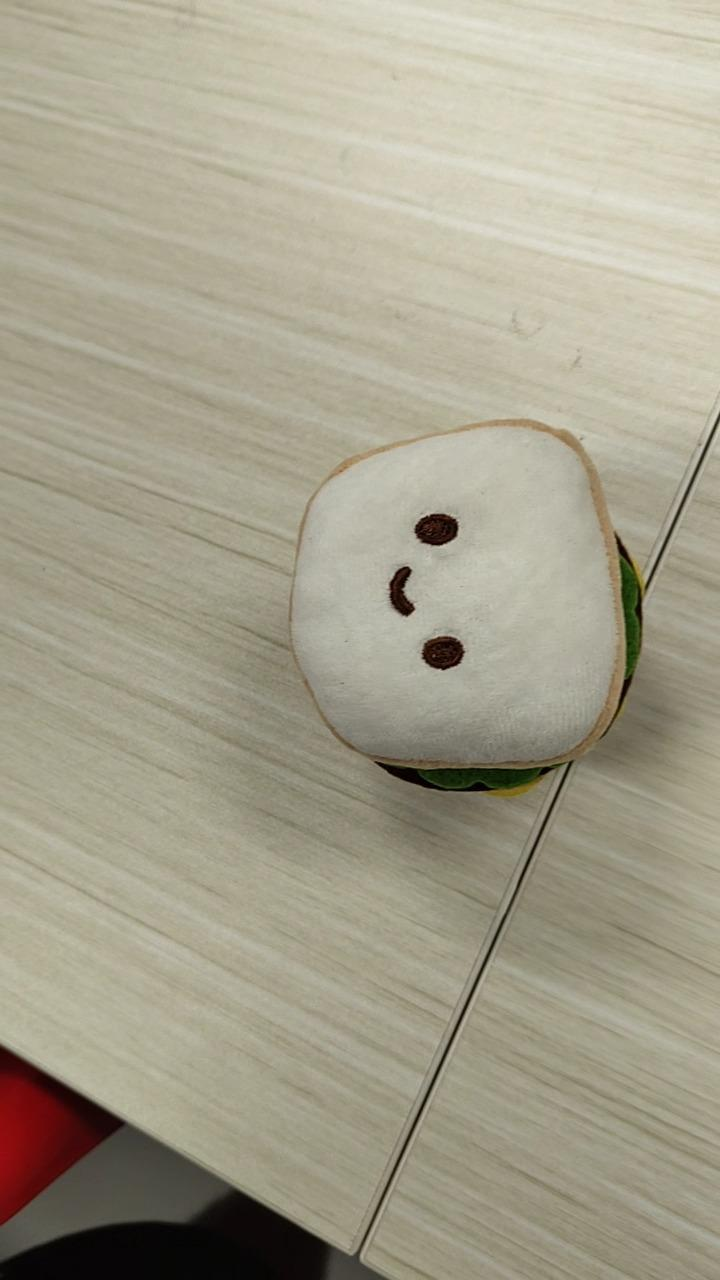objects: (286, 415, 645, 796)
